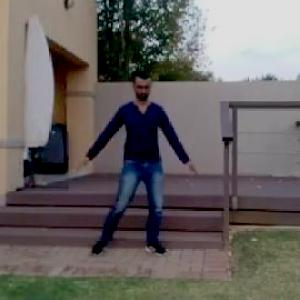land: (69, 70, 187, 263)
